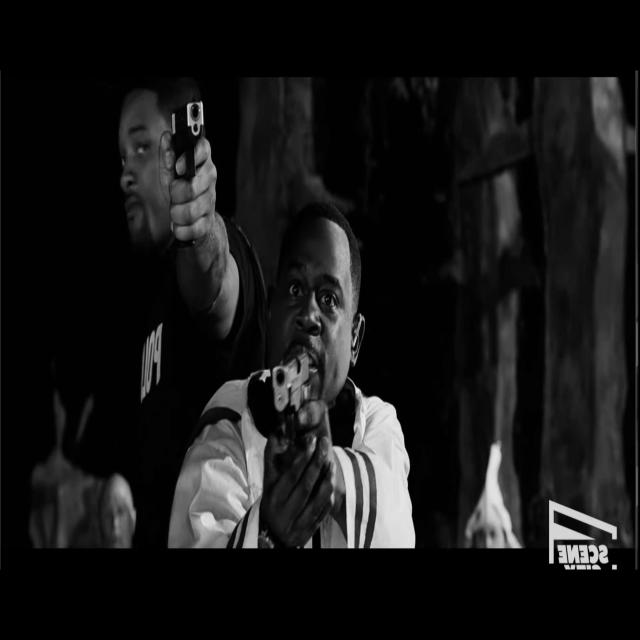weapons: (260, 337, 320, 512), (167, 83, 215, 247)
